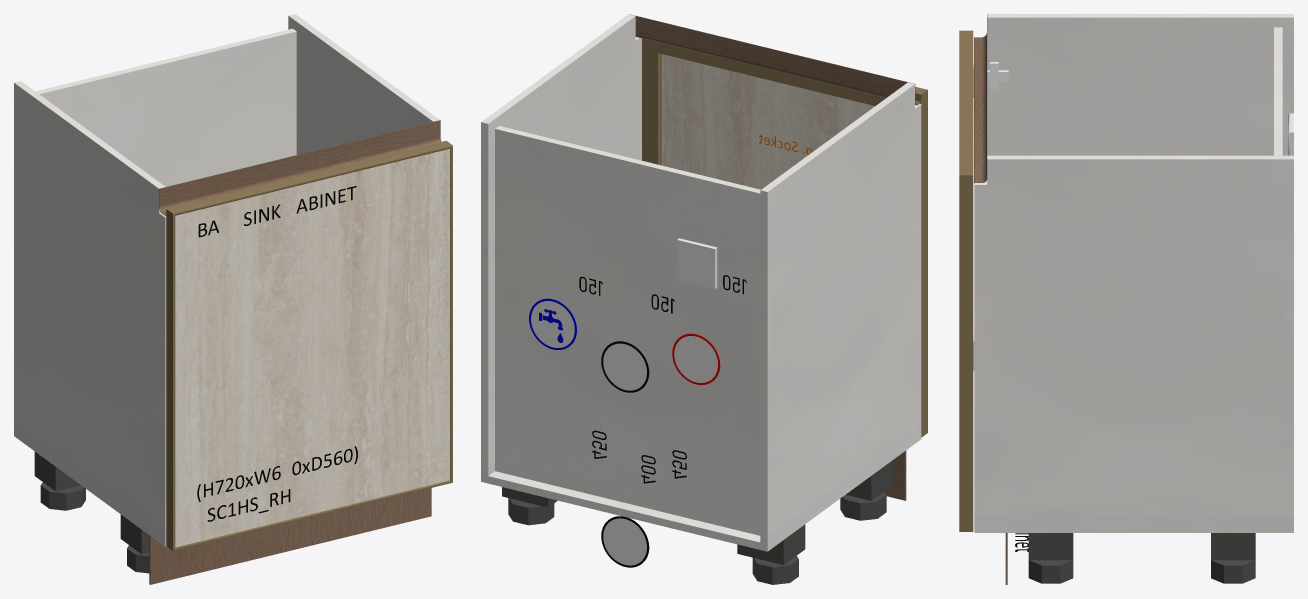
Rendered from BC-SK-CJ-ST-XXX-RHS-XXX-600-720-560-15.glb.
The picture shows the model from 3 angles, left to right: view 1: azimuth 30°, elevation 25°; view 2: azimuth 150°, elevation 25°; view 3: azimuth 270°, elevation 25°; orthographic projection. The views are drawn at different scales.
Parts seen in each view (by area): view 1: Object_node, TP_node_0, TP, TP_node_1, Object_node_67, ExtrSplGeo, Extrusion_node_1, Extrusion, 2D text_node, Object_node_17, TP_node, Extrusion_node_0 (+5 smaller); view 2: TP, TP_node_0, Object_node, TP_node_1, ExtrSplGeo, TP_node, Extrusion, Extrusion_node_1, Extrusion_node, casing, Object_node_47, Object_node_63 (+9 smaller); view 3: TP_node_1, TP_node_0, Extrusion_node, Object_node_19, TP_node, ExtrSplGeo, Extrusion, Plate_node_1, Plate_node, TP, Foot_node_1, Foot_node.
Boxes of the visible parts, x1=… form: Object_node: x1=175, y1=148, x2=449, y2=547; TP_node_0: x1=14, y1=81, x2=166, y2=531; TP: x1=35, y1=28, x2=296, y2=186; TP_node_1: x1=288, y1=14, x2=439, y2=154; Object_node_67: x1=149, y1=488, x2=431, y2=584; ExtrSplGeo: x1=159, y1=120, x2=441, y2=216; Extrusion_node_1: x1=166, y1=209, x2=175, y2=550; Extrusion: x1=167, y1=140, x2=452, y2=215; 2D text_node: x1=197, y1=446, x2=357, y2=521; Object_node_17: x1=14, y1=421, x2=166, y2=539; TP_node: x1=14, y1=429, x2=166, y2=546; Extrusion_node_0: x1=173, y1=480, x2=452, y2=550; TP: x1=495, y1=126, x2=760, y2=535; TP_node_0: x1=760, y1=82, x2=921, y2=536; Object_node: x1=662, y1=54, x2=874, y2=189; TP_node_1: x1=481, y1=14, x2=641, y2=467; ExtrSplGeo: x1=629, y1=14, x2=921, y2=105; TP_node: x1=481, y1=432, x2=921, y2=551; Extrusion: x1=648, y1=40, x2=927, y2=105; Extrusion_node_1: x1=915, y1=90, x2=927, y2=437; Extrusion_node: x1=642, y1=38, x2=661, y2=165; casing: x1=677, y1=238, x2=717, y2=288; Object_node_47: x1=603, y1=518, x2=646, y2=565; Object_node_63: x1=603, y1=343, x2=646, y2=390; TP_node_1: x1=974, y1=155, x2=1293, y2=516; TP_node_0: x1=986, y1=14, x2=1293, y2=181; Extrusion_node: x1=959, y1=175, x2=973, y2=531; Object_node_19: x1=974, y1=517, x2=1293, y2=525; TP_node: x1=974, y1=525, x2=1293, y2=532; ExtrSplGeo: x1=974, y1=14, x2=987, y2=183; Extrusion: x1=959, y1=30, x2=972, y2=175; Plate_node_1: x1=1028, y1=533, x2=1073, y2=560; Plate_node: x1=1211, y1=533, x2=1255, y2=560; TP: x1=1274, y1=27, x2=1282, y2=155; Foot_node_1: x1=1028, y1=560, x2=1073, y2=583; Foot_node: x1=1211, y1=560, x2=1255, y2=583.
Size of what is drawn, in the model's own units: 0.6 by 0.82 by 0.5899.
14 materials, 3 textured.
